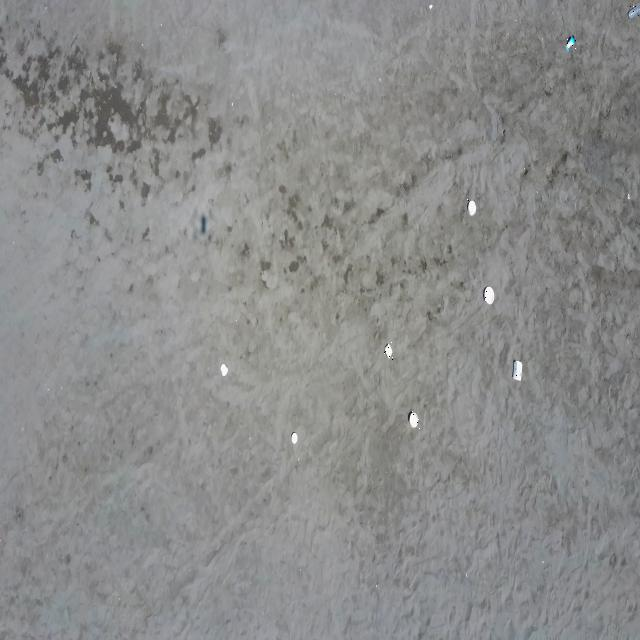take-away-containers: (484, 283, 495, 306), (408, 410, 420, 430), (467, 198, 477, 216), (514, 359, 522, 380), (384, 342, 393, 360), (220, 362, 229, 378), (291, 432, 298, 443)
takeaway-cup: (566, 34, 576, 50), (628, 5, 640, 17)
